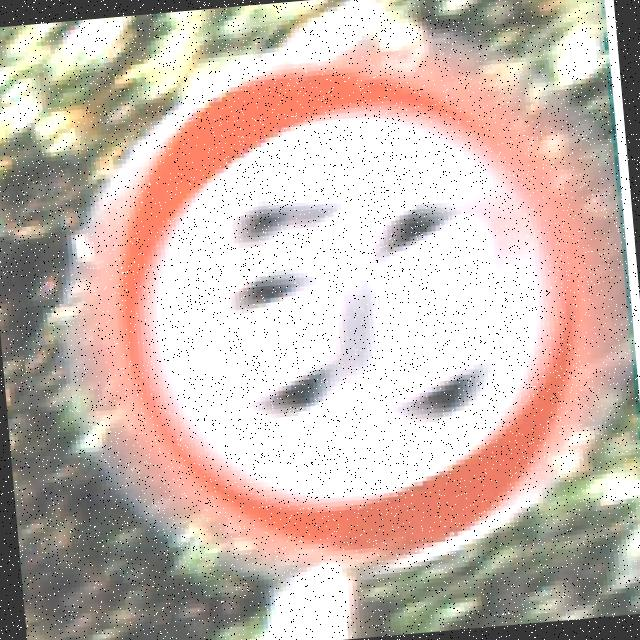Ograniczenie predkosci do 50: (85, 41, 598, 576)
